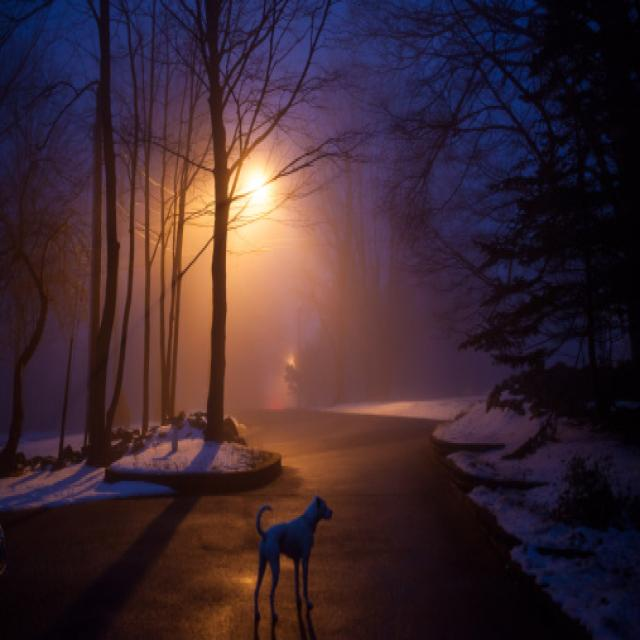Dog: (234, 480, 346, 634)
